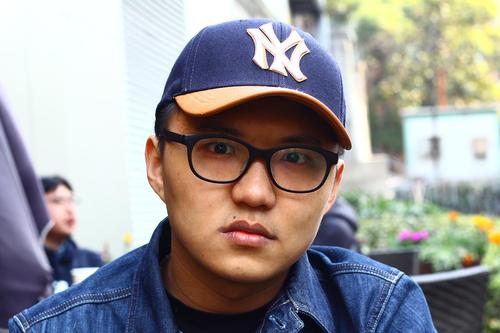noWear: (145, 112, 345, 284), (41, 189, 80, 237)
